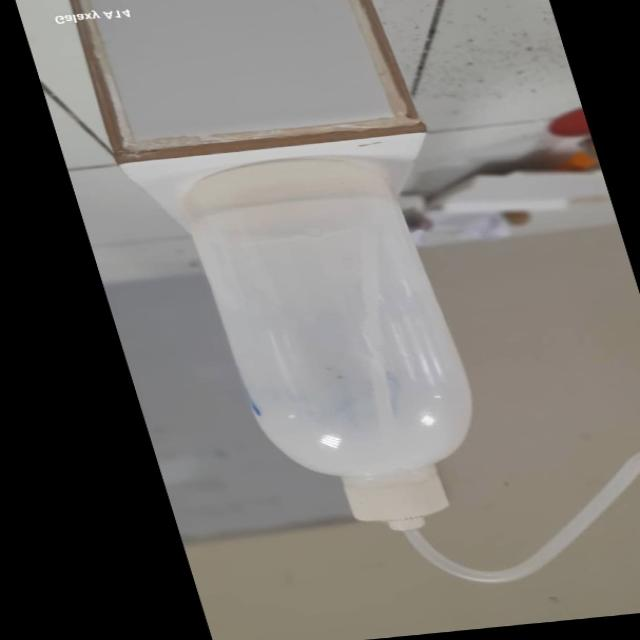Washing Bottle: (158, 136, 640, 618)
